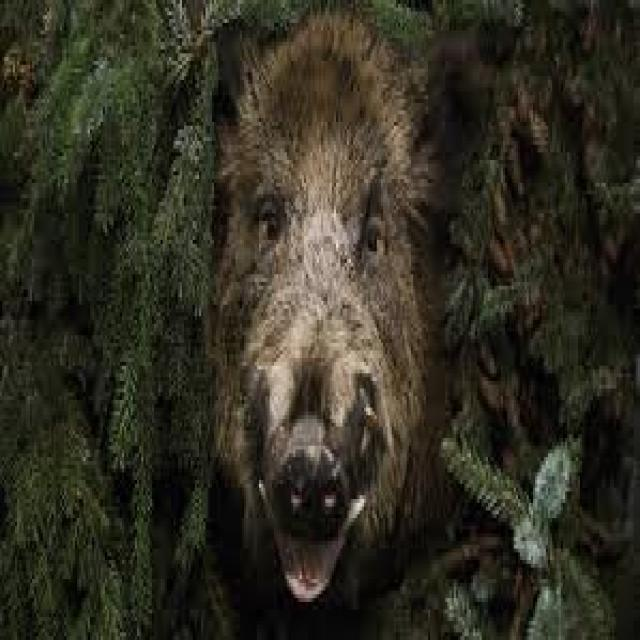Boar: (213, 9, 442, 620)
